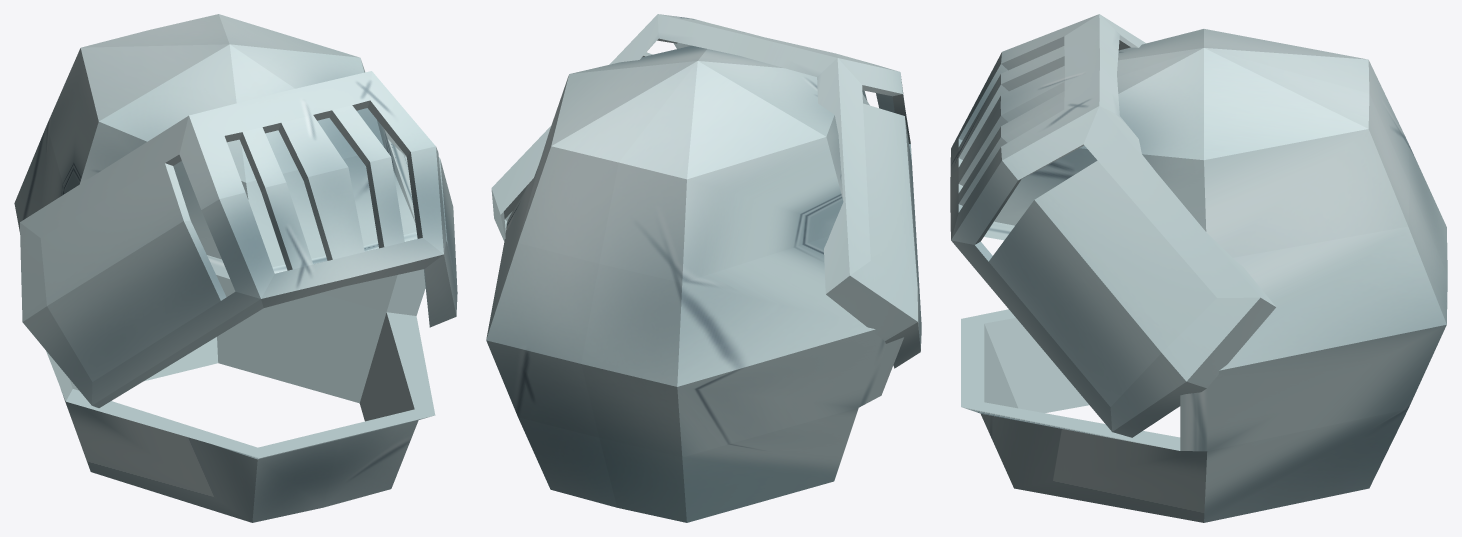
The model's file is knight-helmet-folding.fbx.
3 views of the same model, side by side, from view 1: azimuth 30°, elevation 25°; view 2: azimuth 150°, elevation 25°; view 3: azimuth 270°, elevation 25° (orthographic). The views are drawn at different scales.
Visible parts, largest first — view 1: polySurface1, polySurface2; view 2: polySurface1, polySurface2; view 3: polySurface1, polySurface2.
Boxes of the visible parts, left/top/right/bottom form: polySurface1: left=14, top=14, right=435, bottom=522; polySurface2: left=20, top=71, right=457, bottom=407; polySurface1: left=486, top=45, right=903, bottom=522; polySurface2: left=491, top=14, right=921, bottom=368; polySurface1: left=961, top=29, right=1447, bottom=522; polySurface2: left=950, top=14, right=1276, bottom=437.
Size of the model in its own units: 0.6915 by 0.6046 by 0.6713.
1 material, 1 textured.
